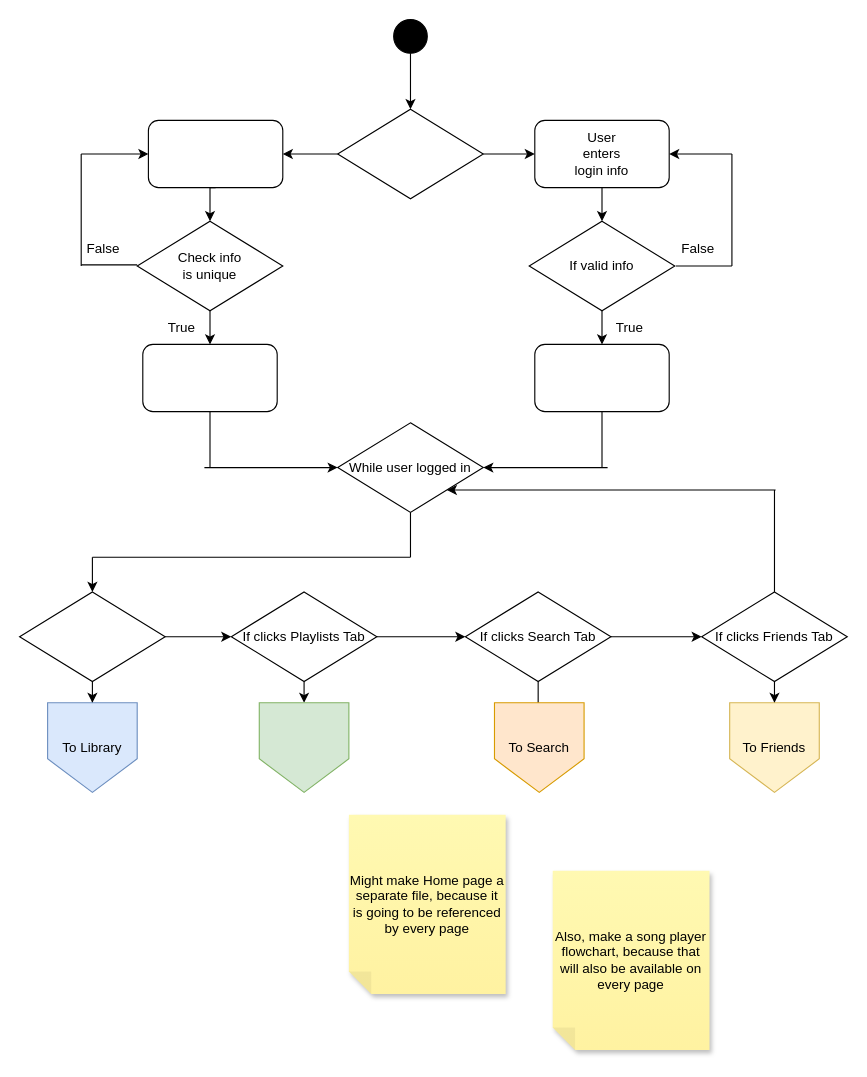
Some shapes in this 867 by 1077 pixel diagram are drawn without their labels. Each missing label, with the centre of its shape:
Create User in database and Introduce User: point (209, 377)
If clicks library Tab: point (91, 636)
Login User and send to home screen: point (601, 377)
Register or Login: point (410, 153)
To Playlists: point (303, 747)
User enters new information: point (215, 153)
